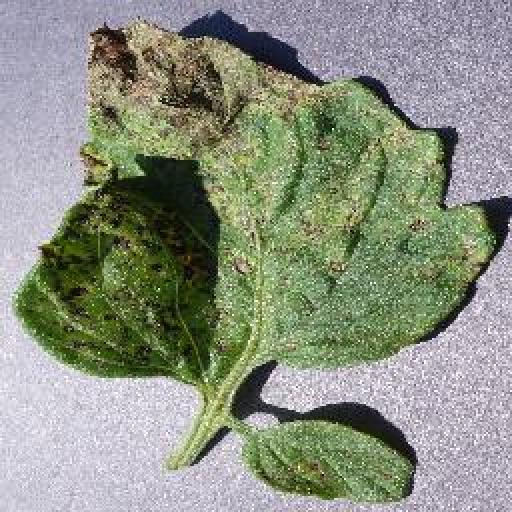Septoria: (18, 22, 496, 382)
